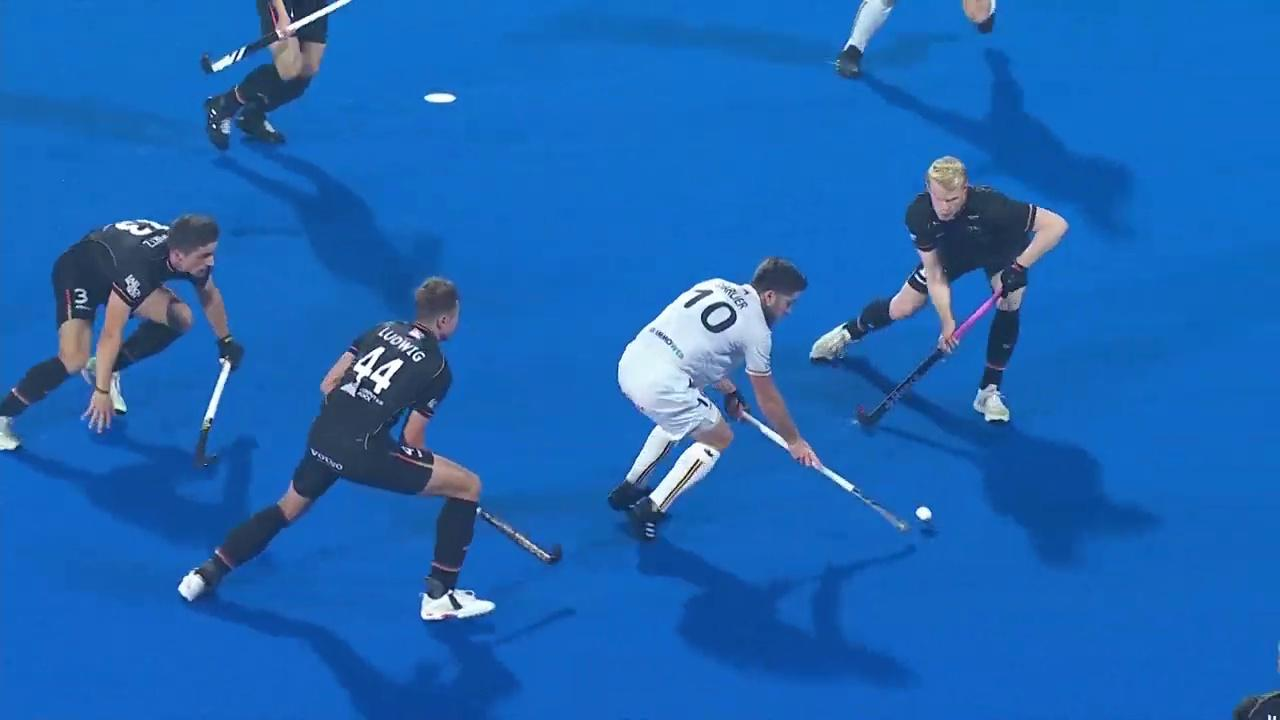ball: (910, 501, 938, 530)
